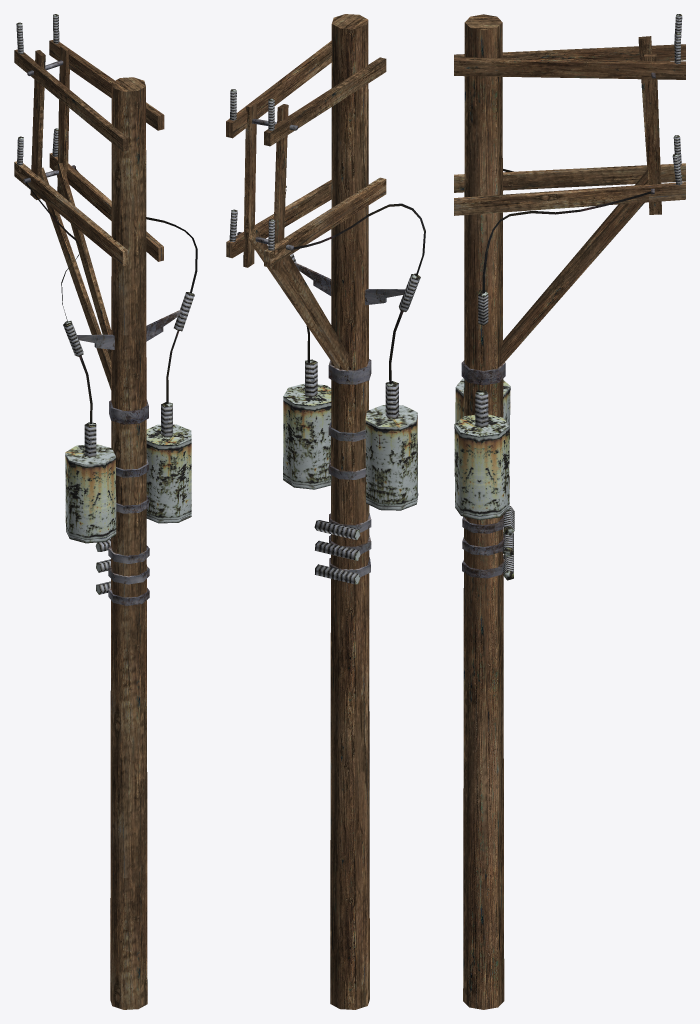
The model's file is powerlinepole2.FBX.
The picture shows the model from 3 angles, left to right: view 1: azimuth 30°, elevation 25°; view 2: azimuth 150°, elevation 25°; view 3: azimuth 270°, elevation 25°; orthographic projection. The views are drawn at different scales.
Parts seen in each view (by area): view 1: powerlinepole2; view 2: powerlinepole2; view 3: powerlinepole2.
Boxes of the visible parts, x1,y1,x2,y2 form: powerlinepole2: (14,14,197,1009); powerlinepole2: (226,14,425,1009); powerlinepole2: (454,14,685,1009).
Size of the model in its own units: 1.68 by 10.62 by 2.28.
